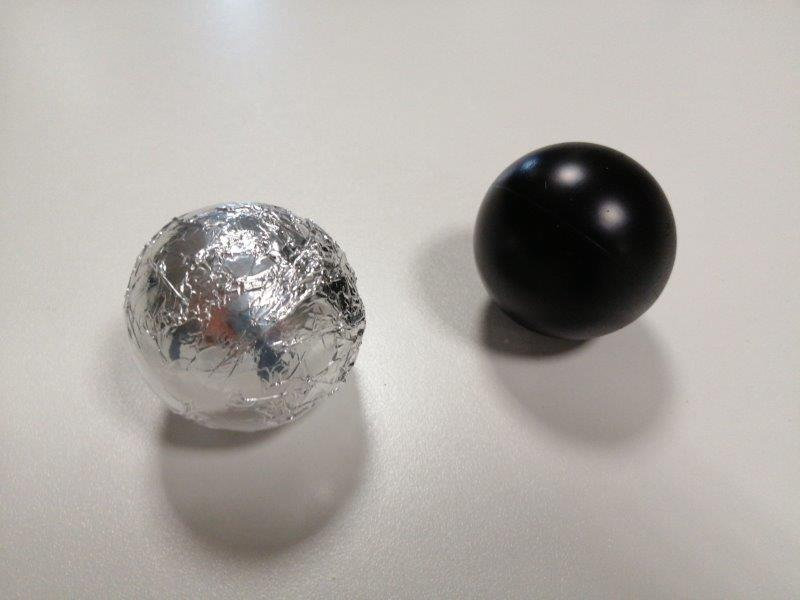bianca: (124, 201, 366, 432)
nera: (472, 139, 678, 342)
